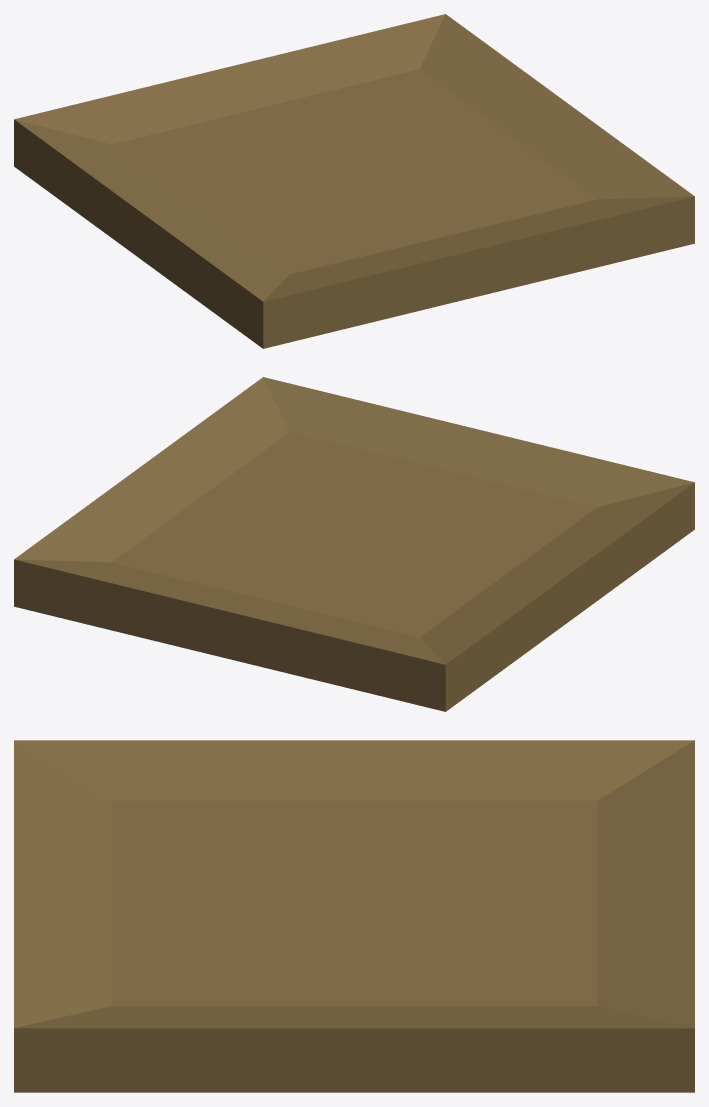
File: Itr_Chair2_Seat_01.FBX
The picture shows the model from 3 angles, top to bottom: view 1: azimuth 30°, elevation 25°; view 2: azimuth 150°, elevation 25°; view 3: azimuth 270°, elevation 25°; orthographic projection. The views are drawn at different scales.
Visible parts, largest first — view 1: Itr_Chair2_Seat_01; view 2: Itr_Chair2_Seat_01; view 3: Itr_Chair2_Seat_01.
Boxes of the visible parts, x1,y1,x2,y2 form: Itr_Chair2_Seat_01: (14, 14, 694, 348); Itr_Chair2_Seat_01: (14, 377, 694, 711); Itr_Chair2_Seat_01: (14, 740, 694, 1092).
Size of the model in its own units: 14.4 by 1.95 by 14.4.
